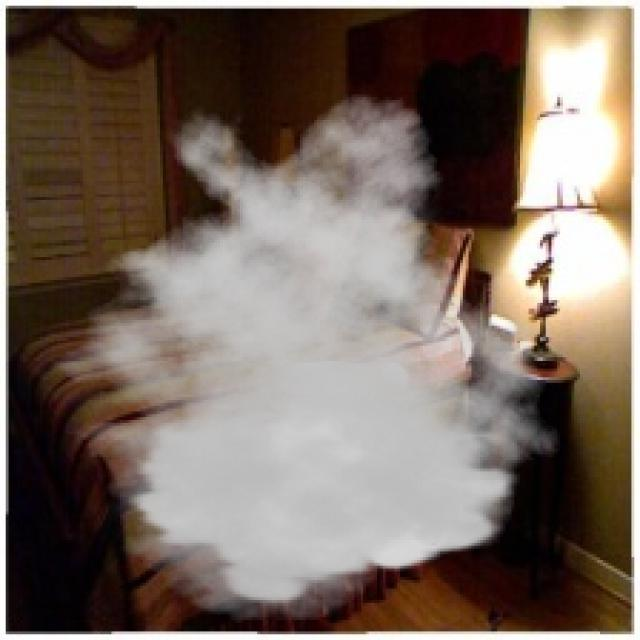smoke: (26, 91, 568, 623)
